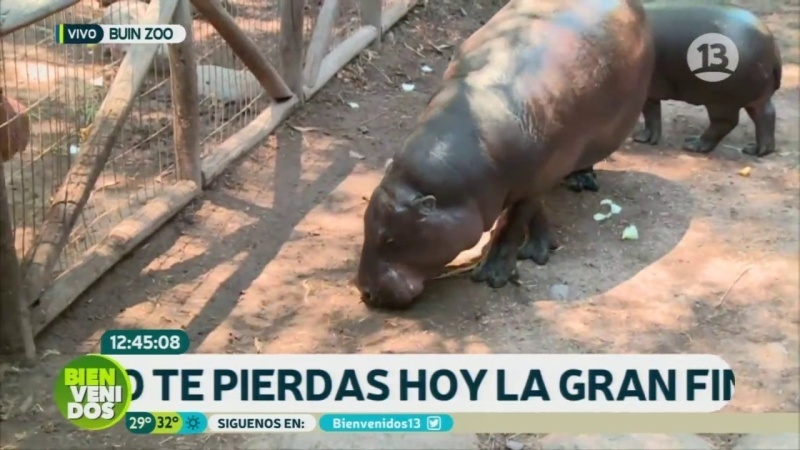hipopotamo: (343, 1, 660, 333), (596, 1, 792, 175)
